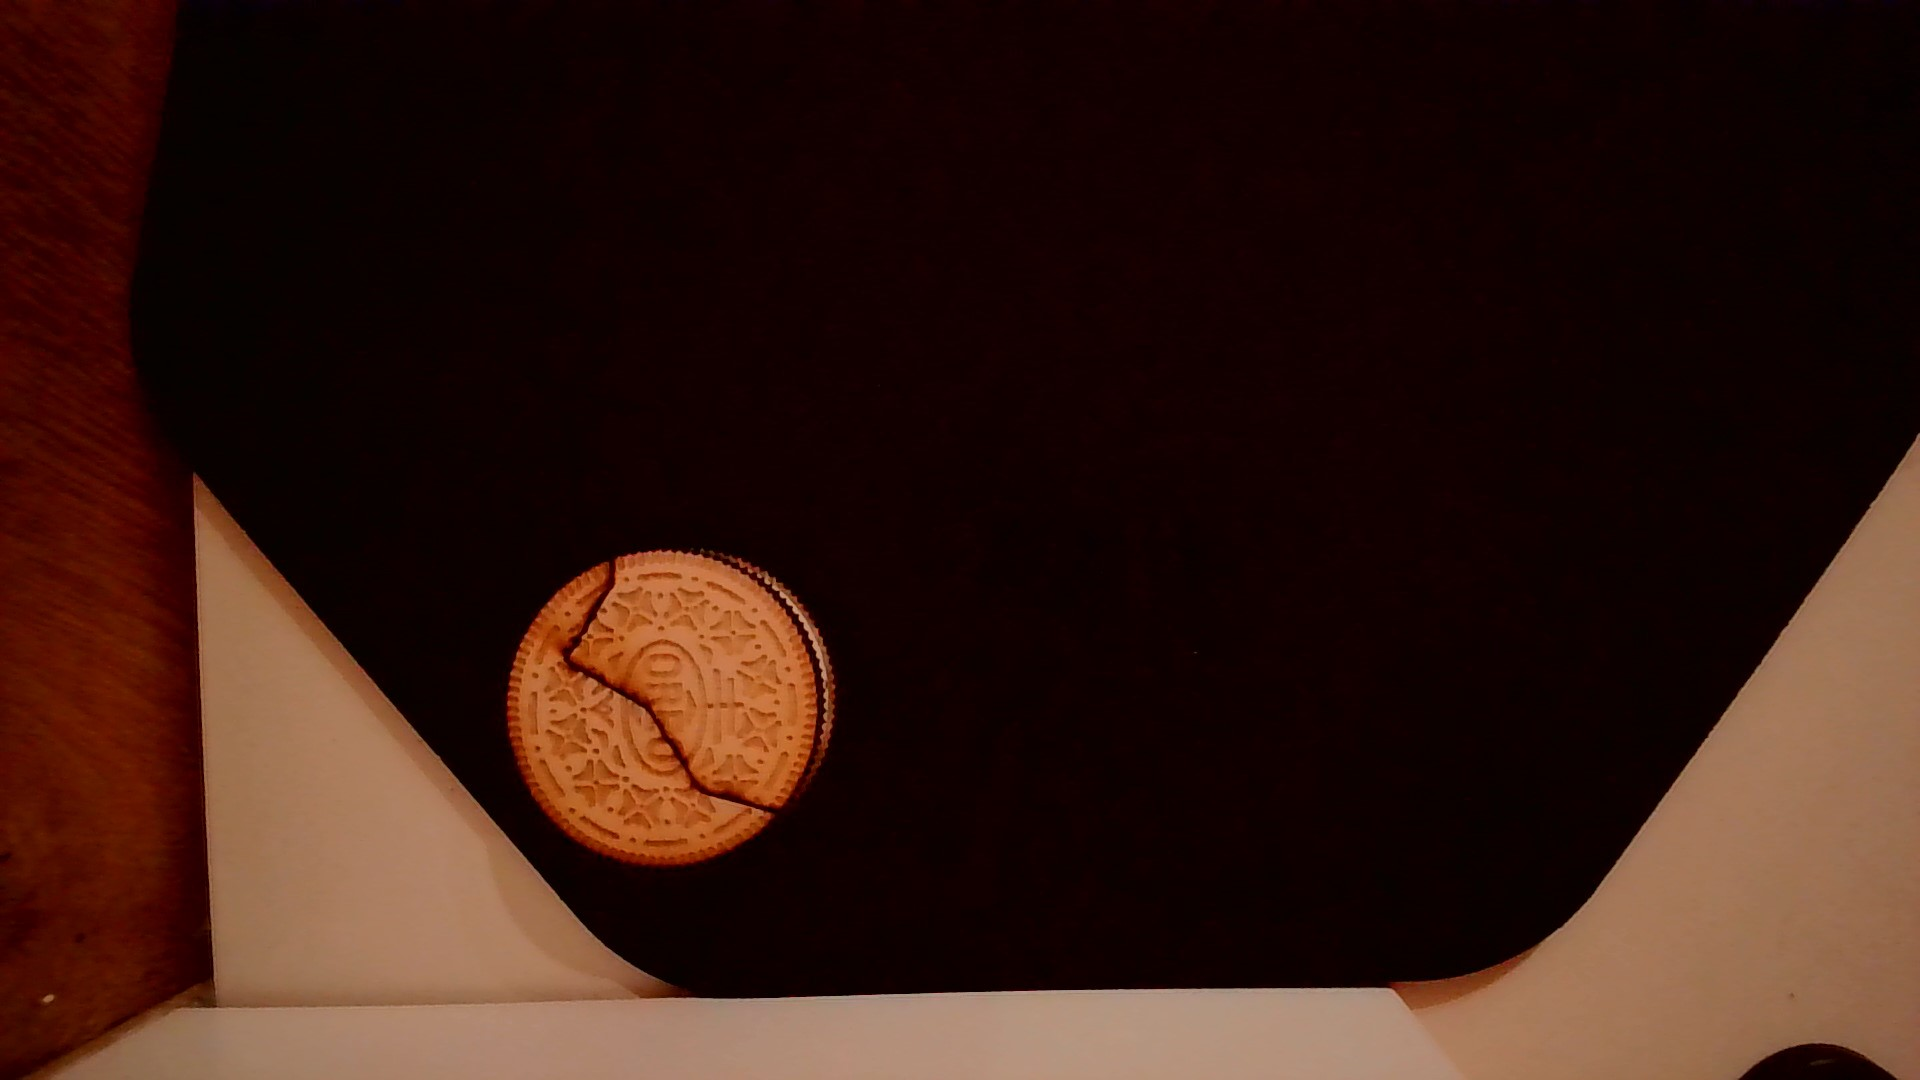Fissure: (551, 545, 790, 824)
Oréo: (498, 542, 843, 870)
